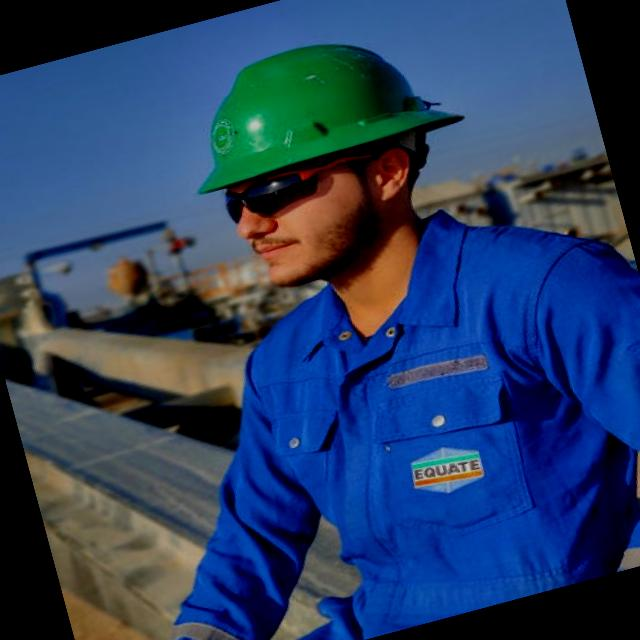goggles: (216, 138, 416, 220)
helmet: (172, 4, 473, 192)
no-vest: (197, 205, 640, 640)
